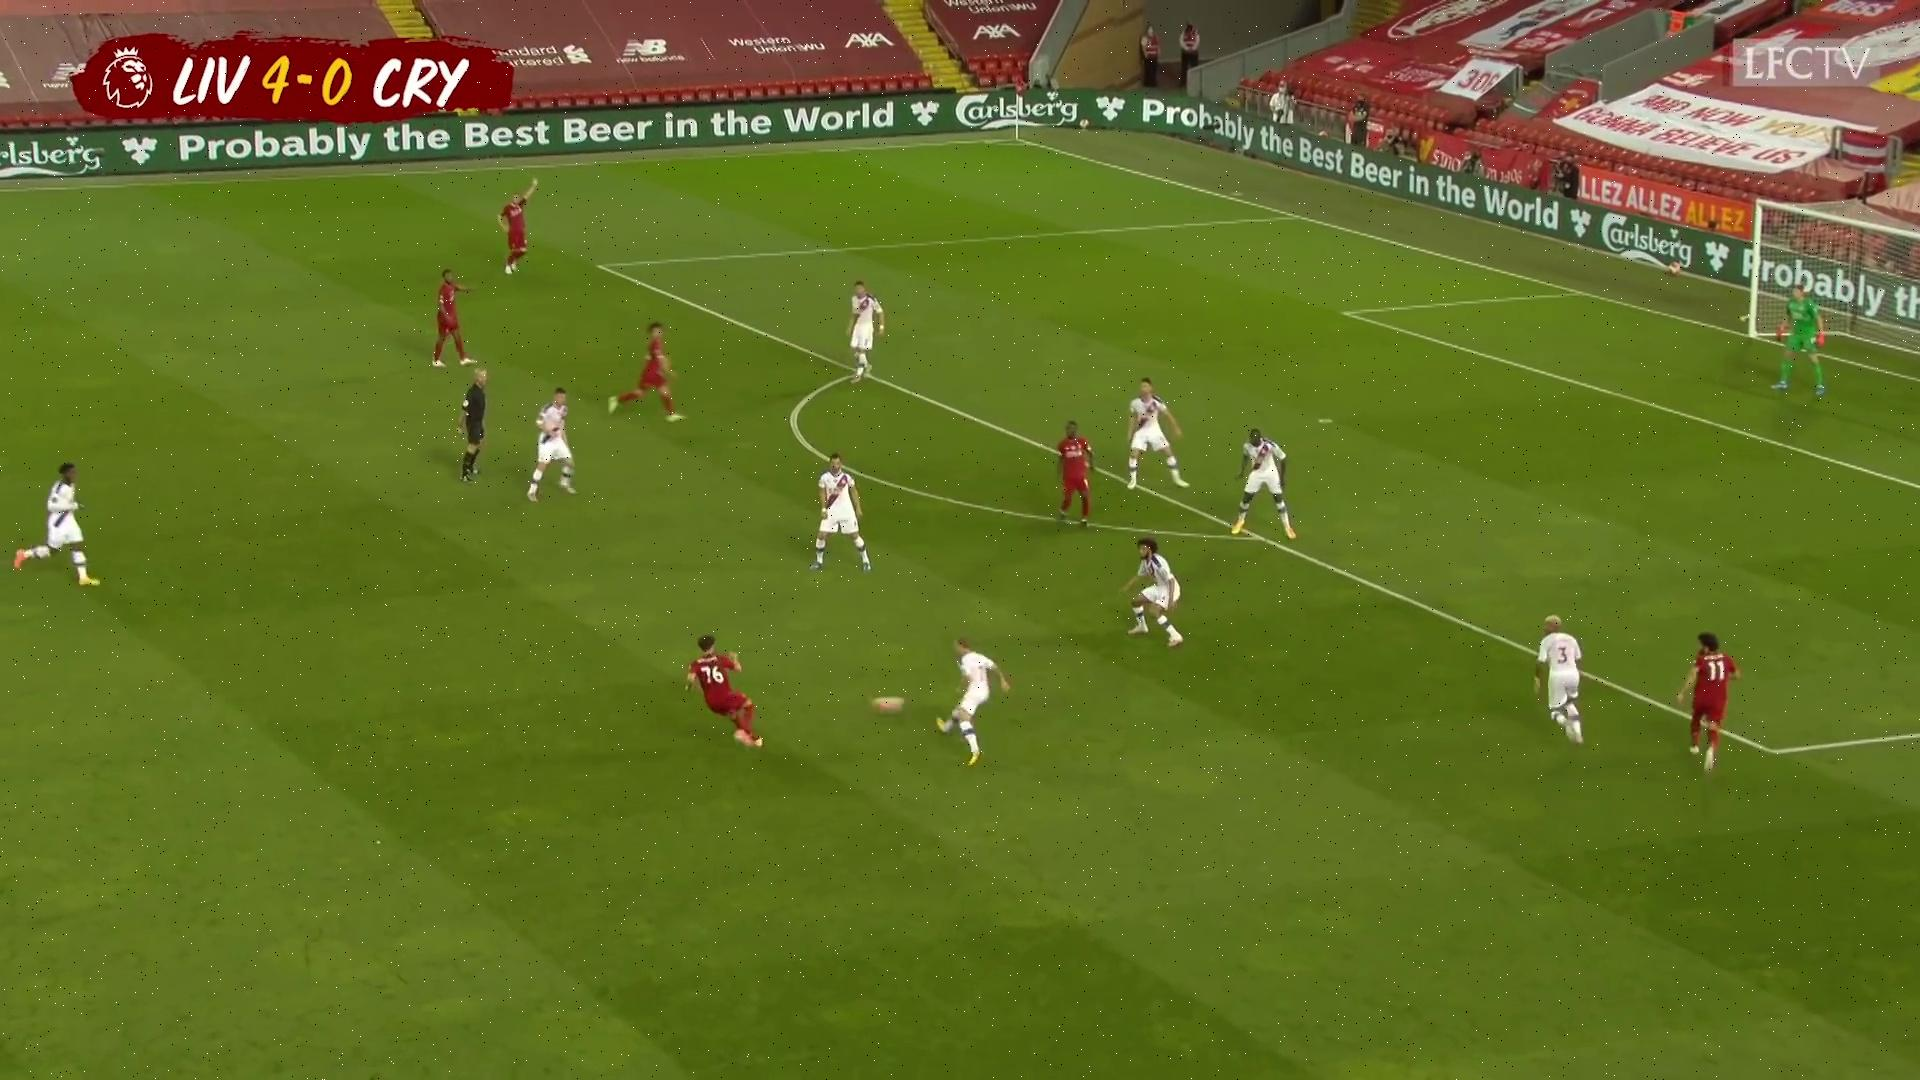ball: (869, 694, 909, 719)
